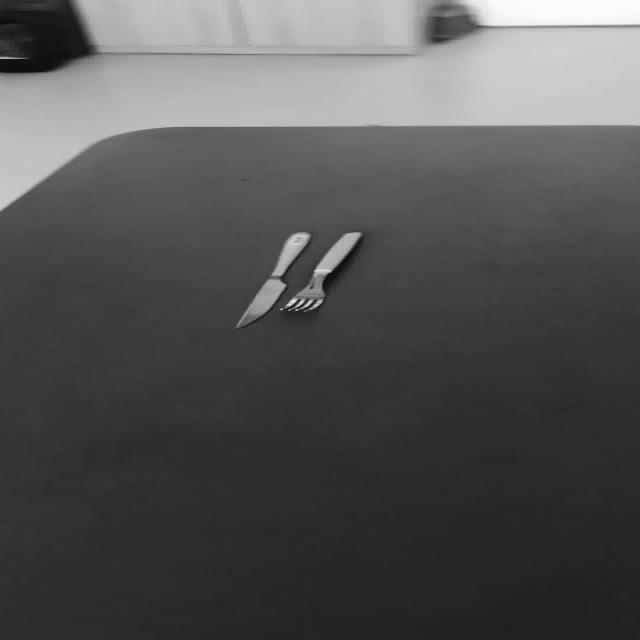fork: (278, 231, 362, 312)
knife fork: (232, 230, 312, 329)
